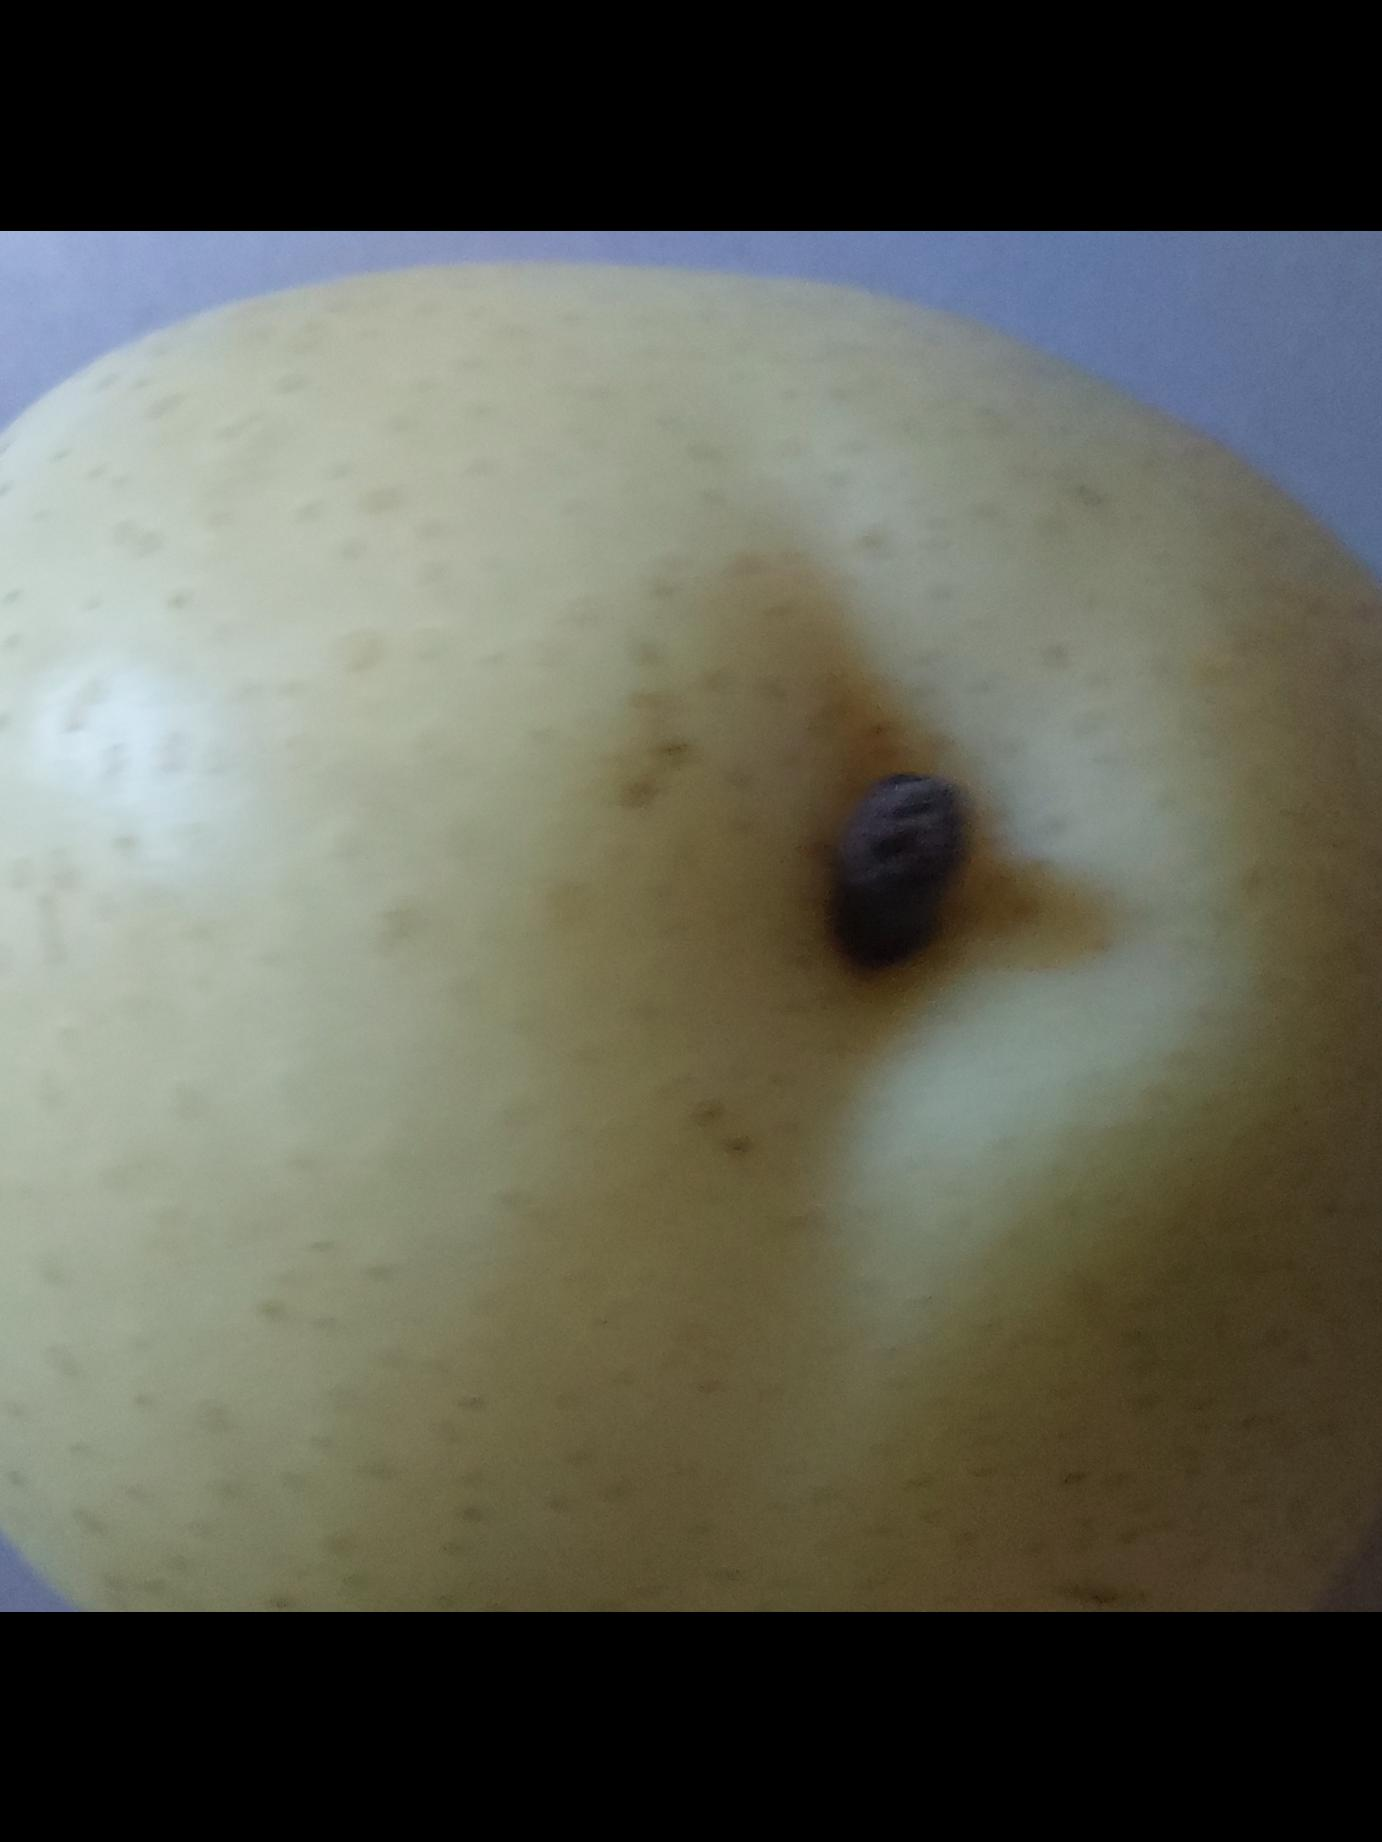Good Pear: (0, 253, 1382, 1613)
